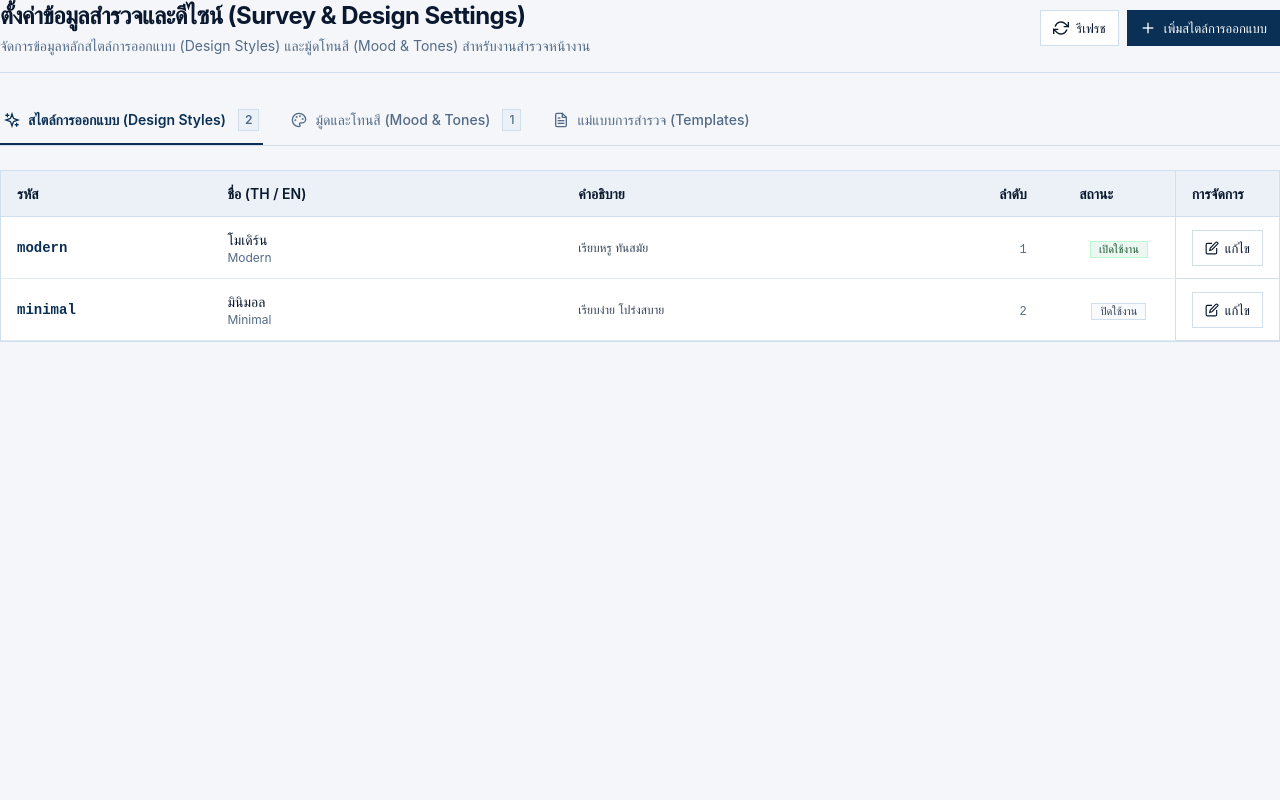
Test: SurveyMasterDataManager › opens create drawer when clicking add button
The width and height of the screenshot is (1280, 800).
Click the button "เพิ่มสไตล์การออกแบบ": (1203, 28) [1127,10,1279,46]
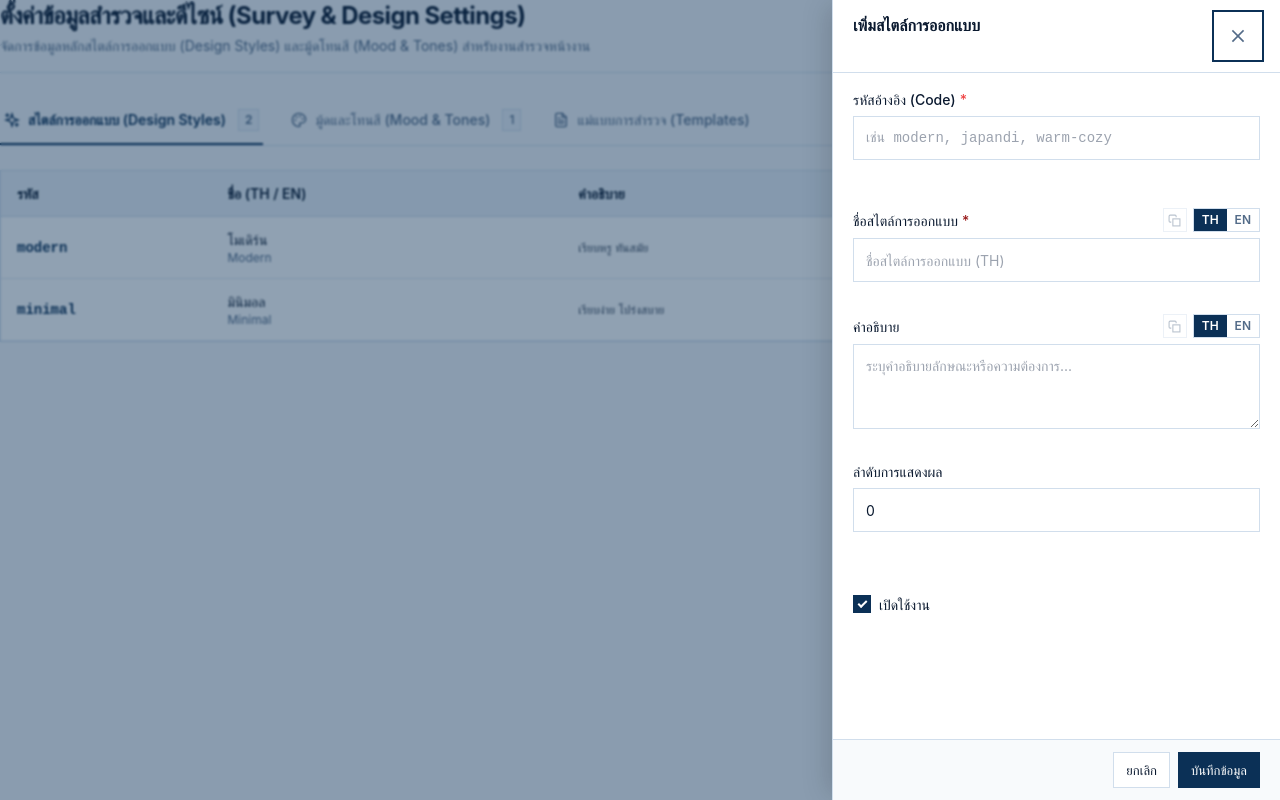
Result: the field with placeholder "เช่น modern, japandi, warm-cozy" is shown at [853,116,1260,160]
Result: the button "บันทึกข้อมูล" is shown at [1178,752,1260,788]
